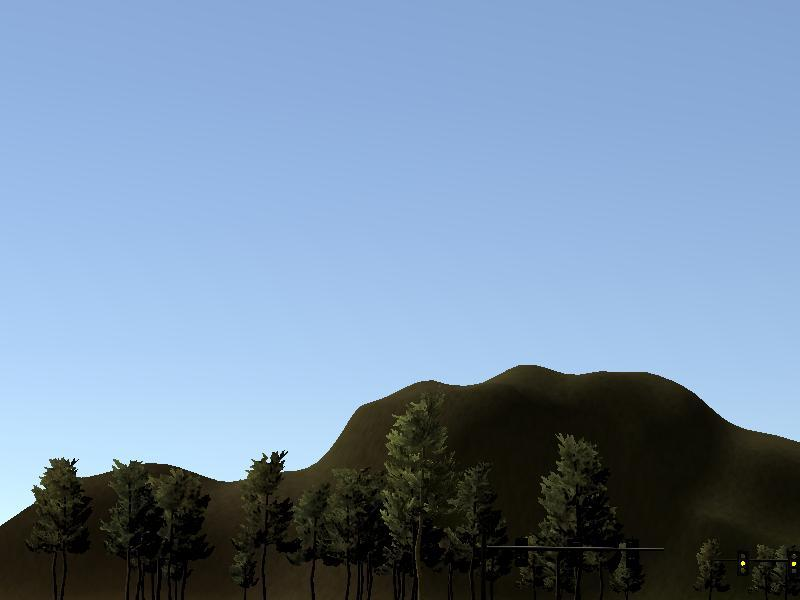Yellow: (737, 551, 748, 576), (788, 550, 799, 575)
